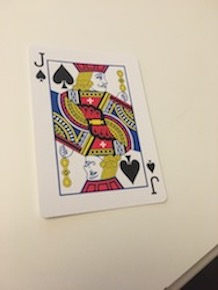JackOfSpades: (23, 39, 171, 222)
